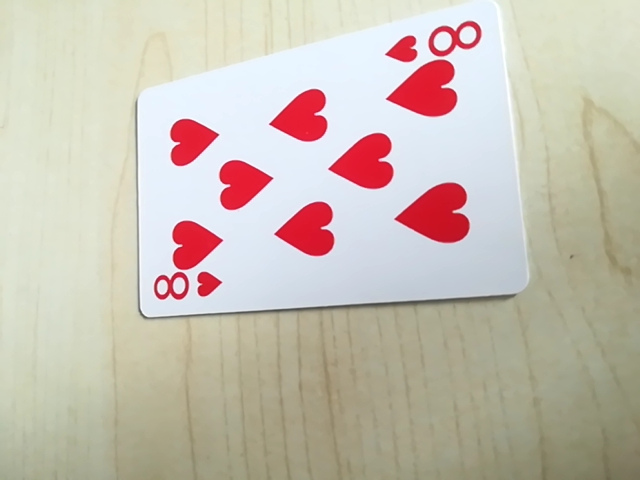hx 8: (381, 16, 486, 67), (149, 267, 224, 311)
